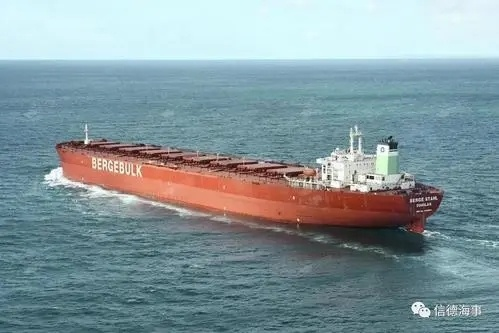Cargoship: (50, 119, 445, 240)
